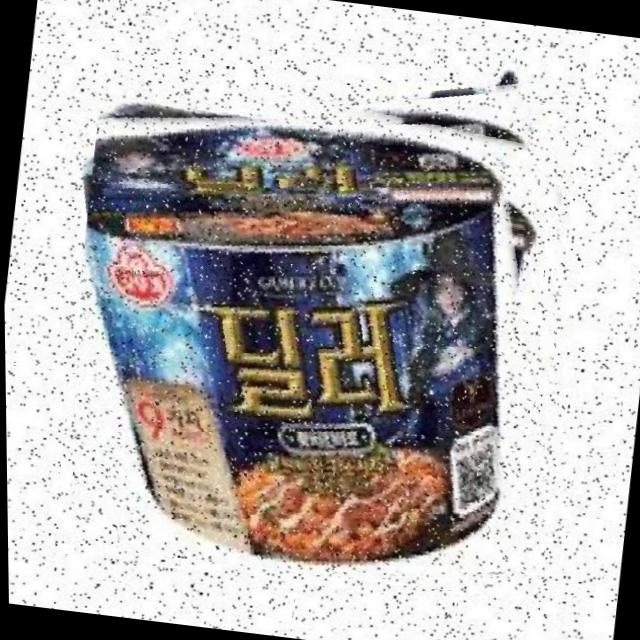Miscellaneous: (45, 51, 601, 601)
